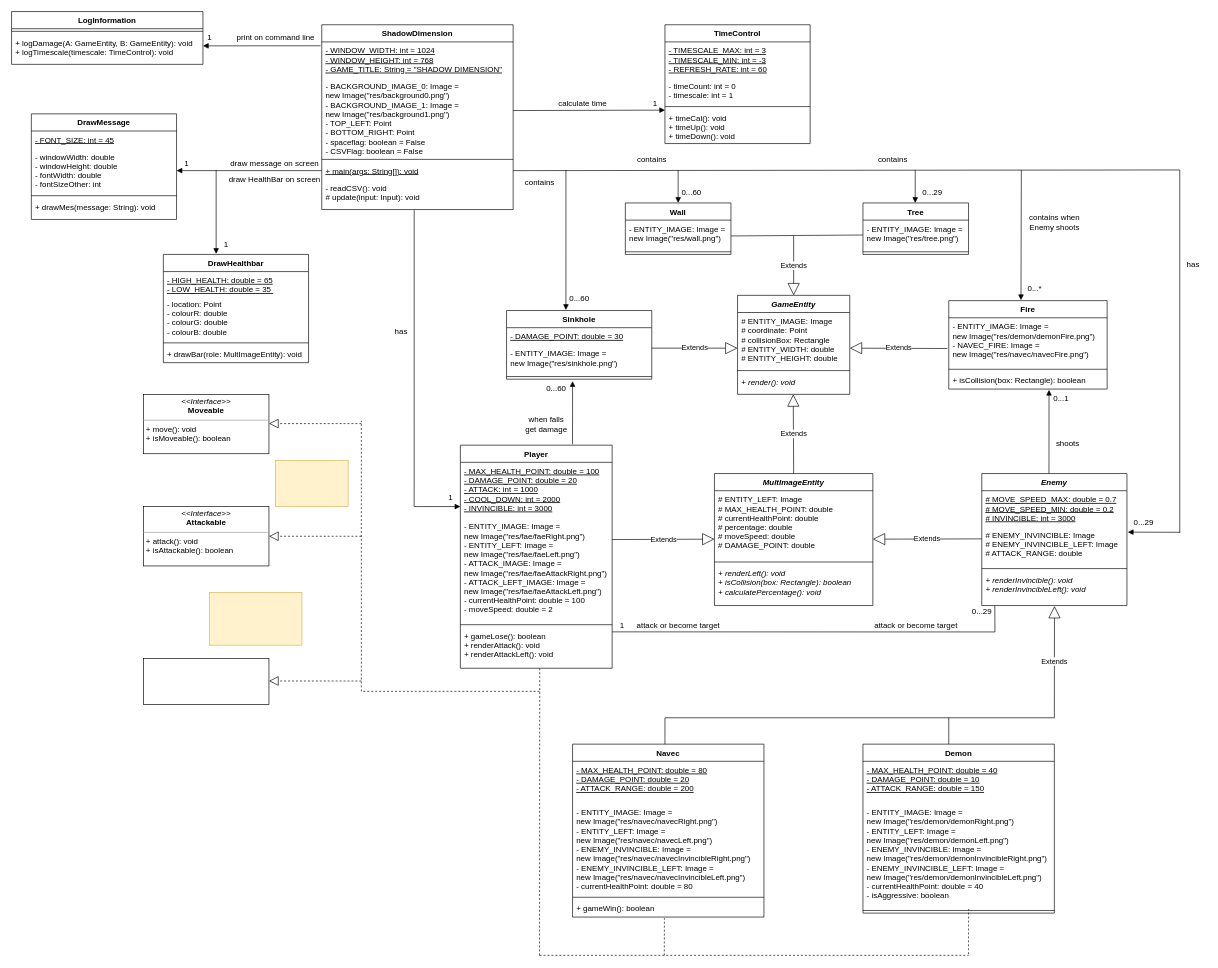
Some shapes in this 1218 by 968 pixel diagram are drawn without their labels. The shapes that lost their labels are listed below. From the top down, each one's centre as x and y in pixels, then its label:
the point at 311,483: If player is not attackable, which means that it is now in cool down
the point at 255,618: If player/demon/navec is not targetable, which means that it is now invincible
the point at 206,681: <<Interface>> Targetable + isTargetable(): boolean
